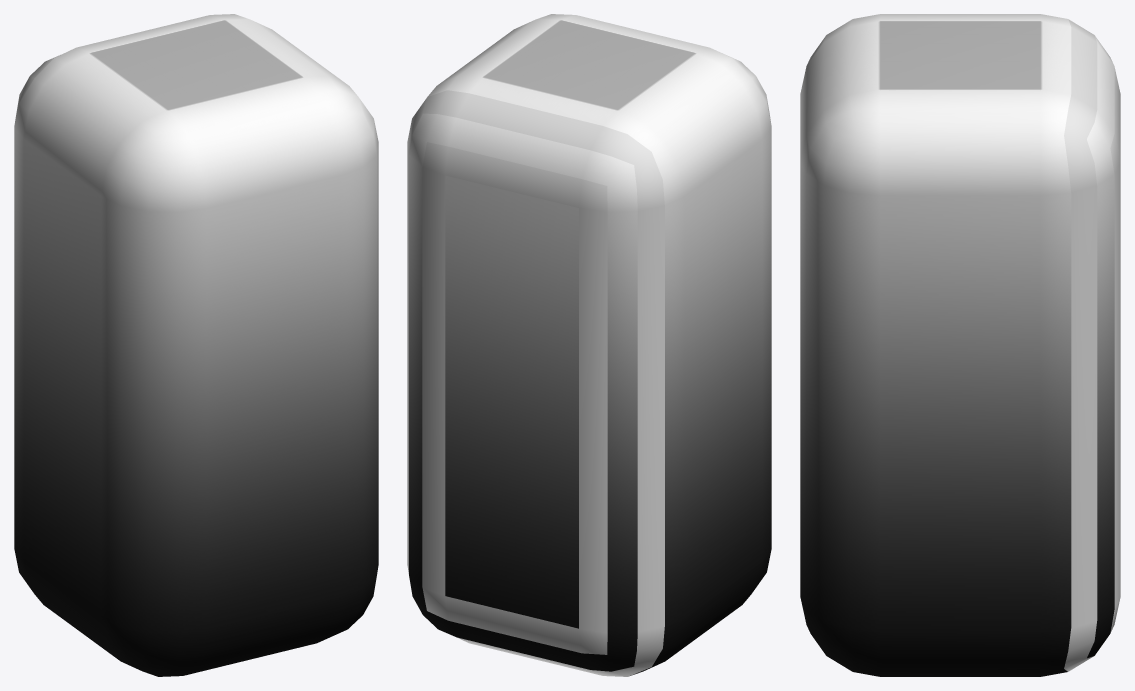
The model's file is DoorPL_1x2_V1.fbx.
The picture shows the model from 3 angles, left to right: view 1: azimuth 30°, elevation 25°; view 2: azimuth 150°, elevation 25°; view 3: azimuth 270°, elevation 25°; orthographic projection. The views are drawn at different scales.
Visible parts, largest first — view 1: DoorPL_1x2_V1; view 2: DoorPL_1x2_V1; view 3: DoorPL_1x2_V1.
Part boxes in pixels (left/top/right/bottom): DoorPL_1x2_V1: left=14, top=14, right=378, bottom=676; DoorPL_1x2_V1: left=407, top=14, right=771, bottom=676; DoorPL_1x2_V1: left=800, top=14, right=1120, bottom=676.
Bounding box in the file's own units: 128 × 256 × 128.
Materials: 2 (1 with a texture image).
